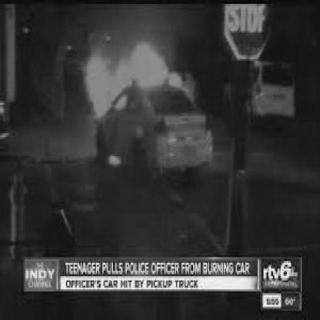Fire: (87, 46, 185, 100)
